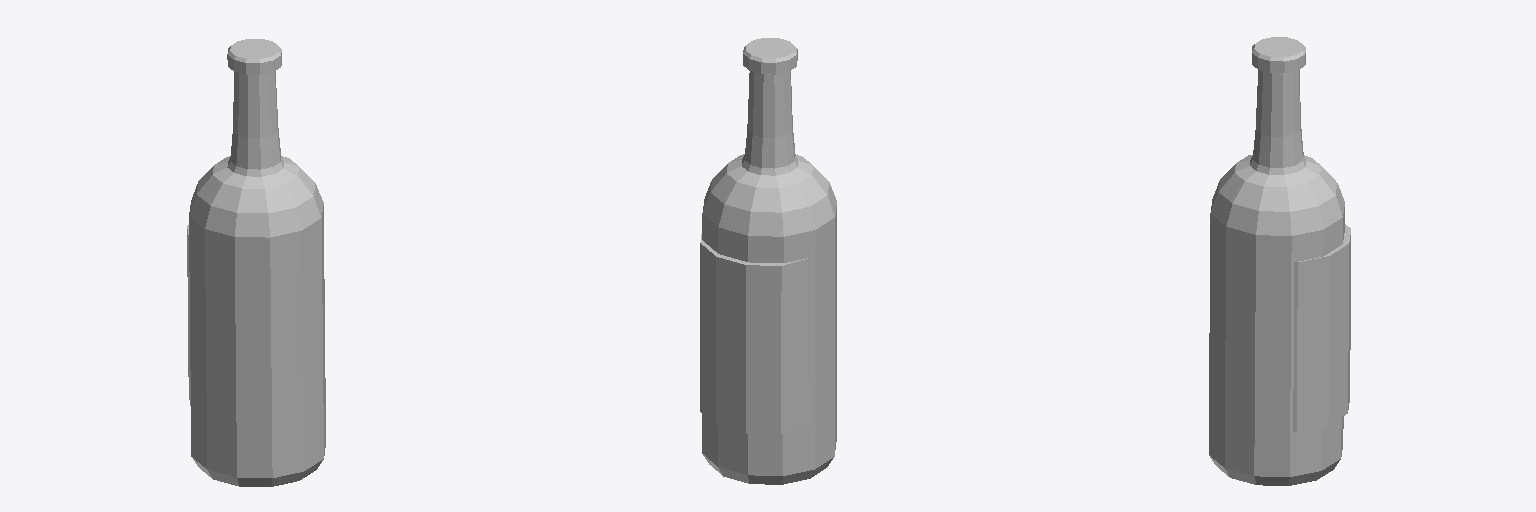
File: wine.obj
3 views of the same model, side by side, from view 1: azimuth 30°, elevation 25°; view 2: azimuth 150°, elevation 25°; view 3: azimuth 270°, elevation 25° (orthographic).
Parts seen in each view (by area): view 1: group[number redacted]; view 2: group[number redacted]; view 3: group[number redacted].
Boxes of the visible parts, <box> form: group[number redacted]: <box>187,39,325,486</box>; group[number redacted]: <box>700,38,836,484</box>; group[number redacted]: <box>1209,37,1350,485</box>.
Bounding box in the file's own units: 0.4168 × 1.4 × 0.4359.